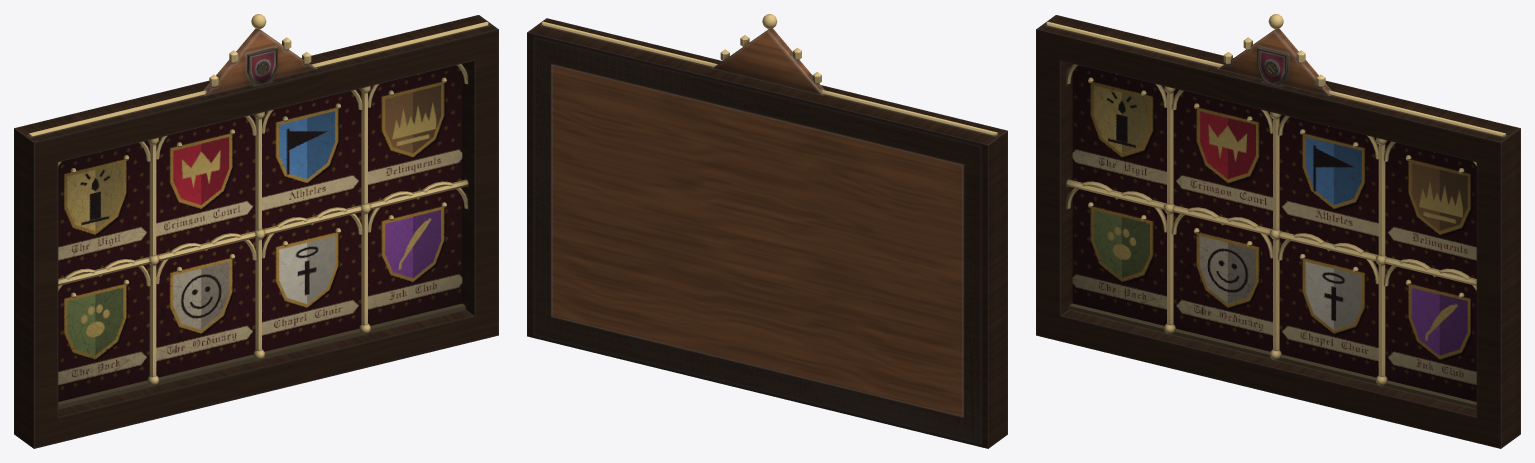
Rendered from CliqueHeraldry.fbx.
3 views of the same model, side by side, from view 1: azimuth 30°, elevation 25°; view 2: azimuth 150°, elevation 25°; view 3: azimuth 330°, elevation 25° (orthographic).
Visible parts, largest first — view 1: CliqueHeraldry_Canvas, CliqueHeraldry_Main; view 2: CliqueHeraldry_Main; view 3: CliqueHeraldry_Canvas, CliqueHeraldry_Main.
Boxes of the visible parts, bbox=[...] form: CliqueHeraldry_Canvas: bbox=[58, 64, 462, 401]; CliqueHeraldry_Main: bbox=[14, 14, 498, 448]; CliqueHeraldry_Main: bbox=[527, 14, 1007, 448]; CliqueHeraldry_Canvas: bbox=[1072, 64, 1476, 401]; CliqueHeraldry_Main: bbox=[1036, 14, 1520, 448].
Size of the model in its own units: 702 by 540 by 52.
